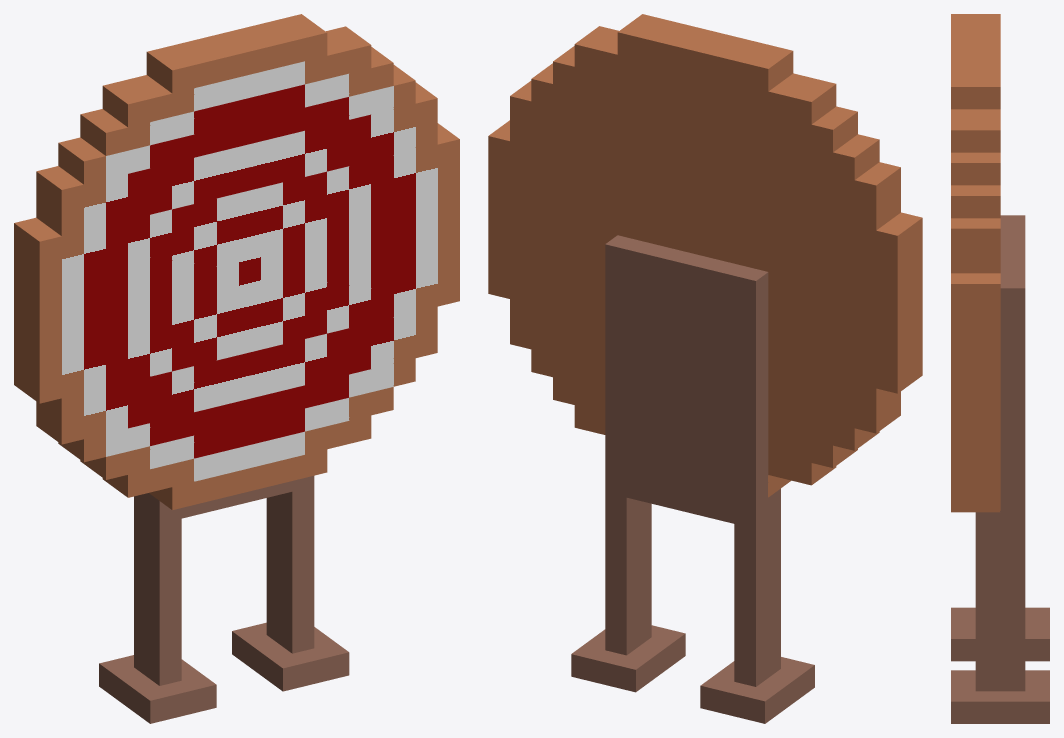
Rendered from practice target.obj.
3 views of the same model, side by side, from view 1: azimuth 30°, elevation 25°; view 2: azimuth 150°, elevation 25°; view 3: azimuth 270°, elevation 25° (orthographic). The views are drawn at different scales.
Bounding box in the file's own units: 19 × 28 × 4.
1 material, 1 textured.
